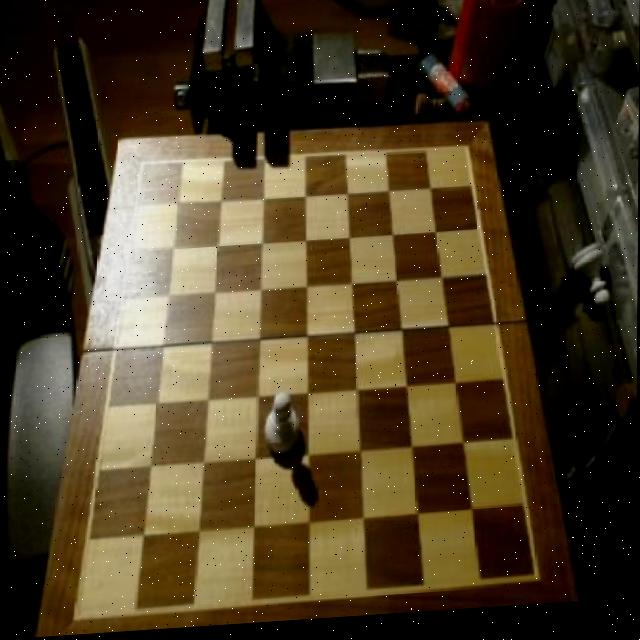white-knight: (262, 386, 298, 465)
